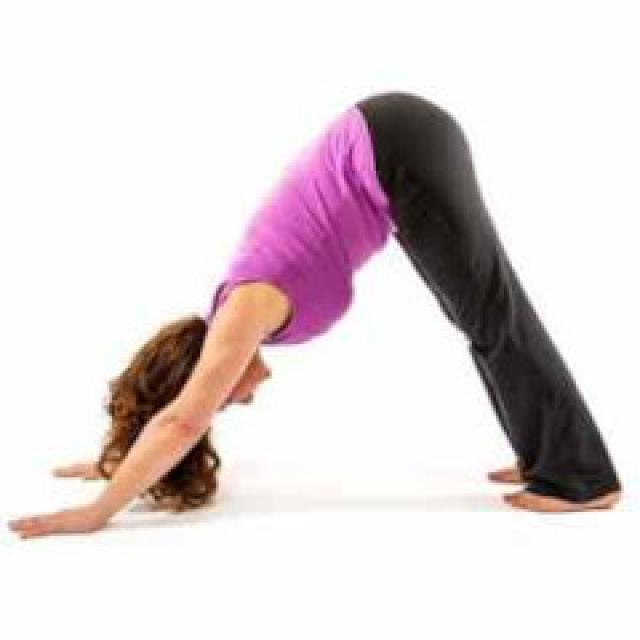yoga-pose downward: (49, 88, 622, 530)
